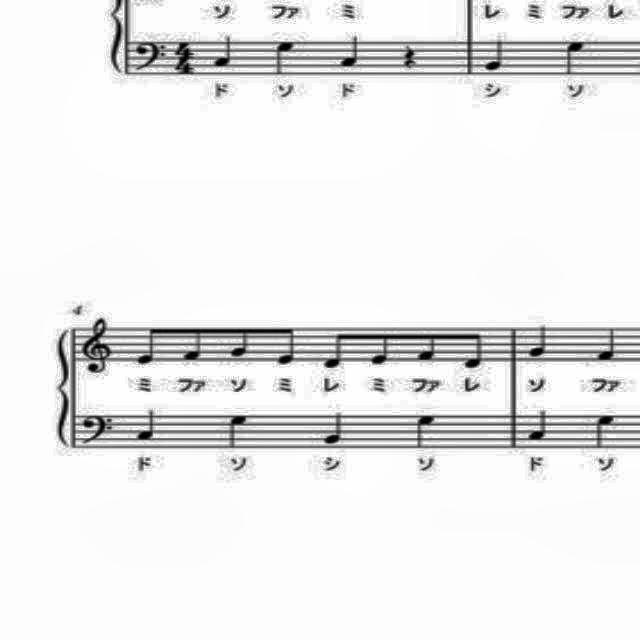Bass-clef: (80, 410, 122, 446), (130, 38, 170, 74)
Eighth-note: (316, 326, 356, 374), (364, 324, 396, 372), (272, 324, 302, 368), (132, 323, 160, 369), (461, 328, 485, 376), (181, 319, 205, 367), (227, 320, 255, 360), (413, 329, 442, 366)
Quarter-note: (336, 33, 372, 71), (271, 36, 303, 76), (560, 37, 592, 75), (224, 412, 253, 452), (483, 34, 511, 74), (524, 321, 552, 361), (592, 324, 620, 364), (320, 406, 348, 446), (524, 406, 552, 446), (592, 410, 620, 450), (412, 412, 441, 450), (211, 34, 239, 72), (132, 404, 158, 444)
Quarter-rest: (398, 38, 424, 74)
Treble-clef: (80, 315, 120, 377)
